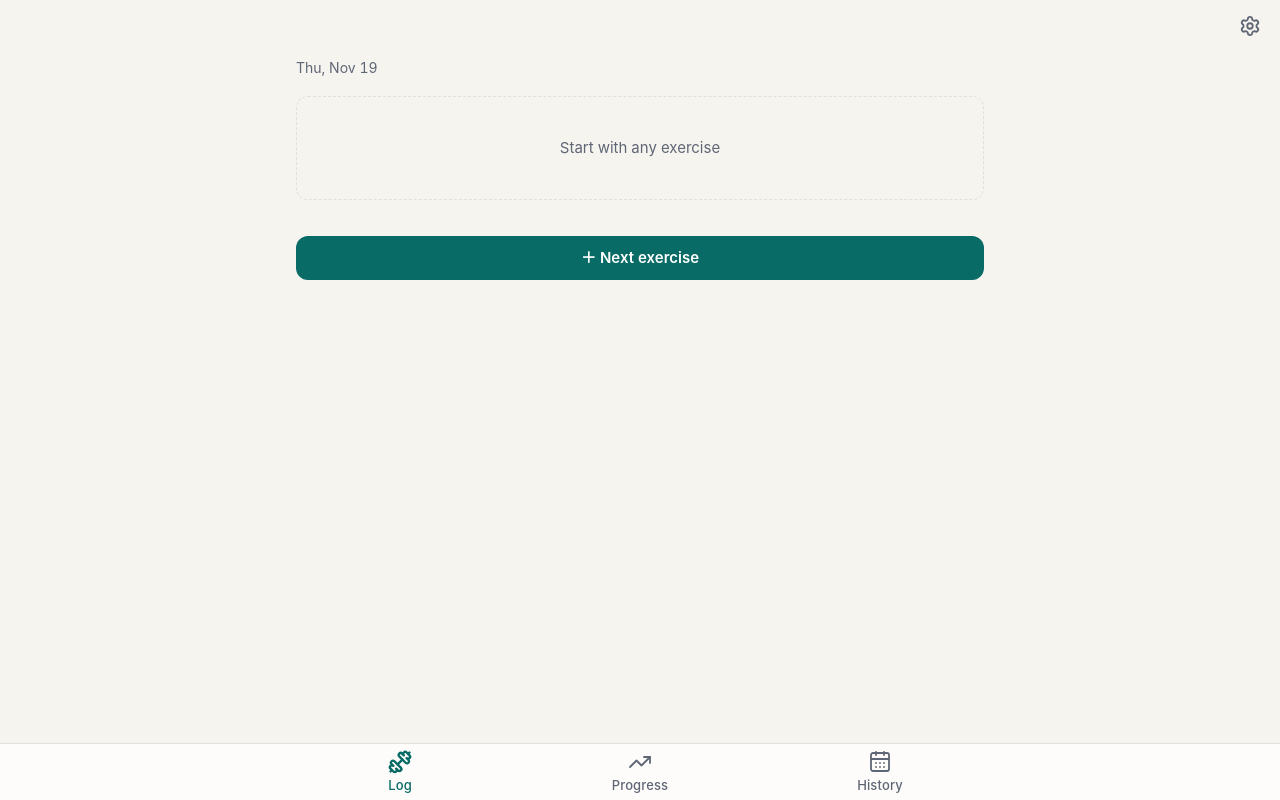
tabs › switches tabs, persists the choice and restores it
The width and height of the screenshot is (1280, 800).
Later steps or results of the test are not shown.
Click the tab "Progress" at (640, 772), box [520,744,760,799]
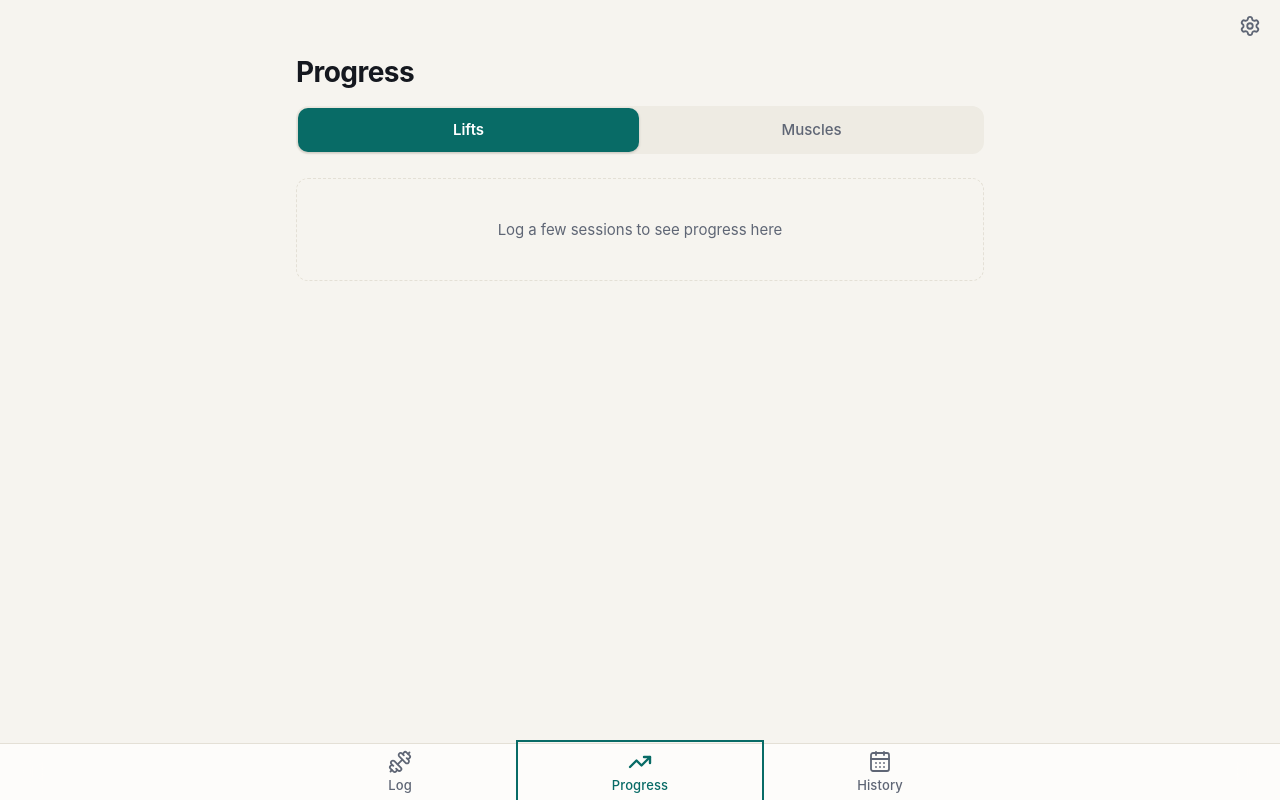
Check: the heading "Progress" is shown, box [296,55,414,89]
